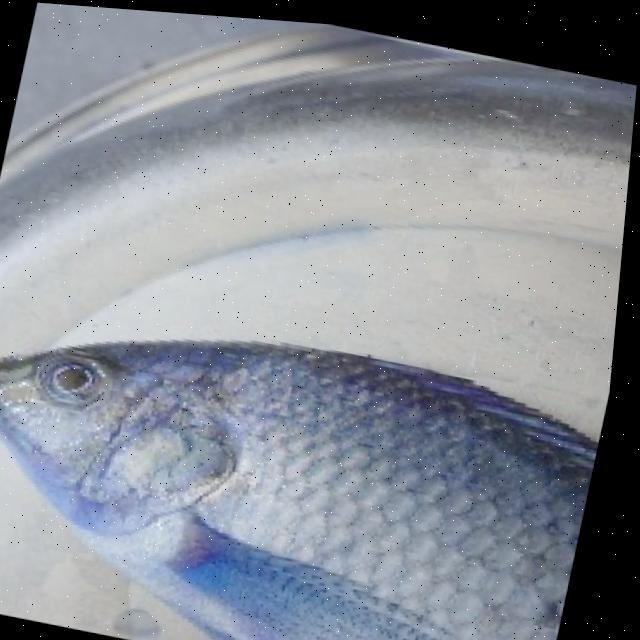Fresh: (0, 284, 617, 640)
